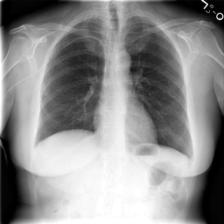normal: (31, 10, 195, 158)
